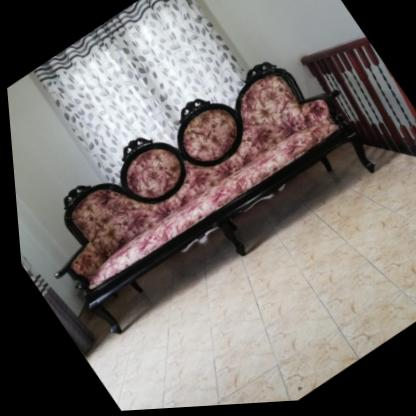Sofa: (3, 35, 395, 356)
